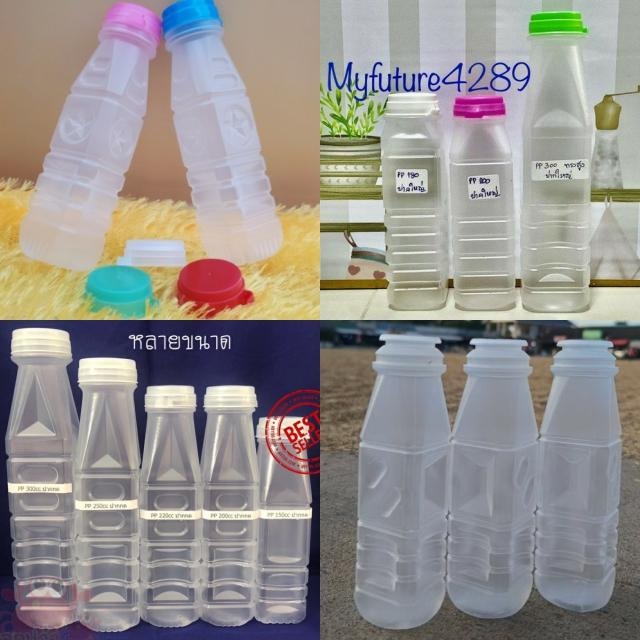Single-Use-Plastic: (20, 2, 161, 271), (162, 0, 282, 264), (354, 335, 451, 629), (448, 339, 538, 618), (535, 340, 621, 612), (6, 328, 79, 628), (521, 11, 592, 311), (74, 358, 140, 631), (140, 385, 202, 627), (381, 92, 448, 310), (450, 95, 516, 311), (201, 385, 259, 626), (255, 414, 312, 624)
